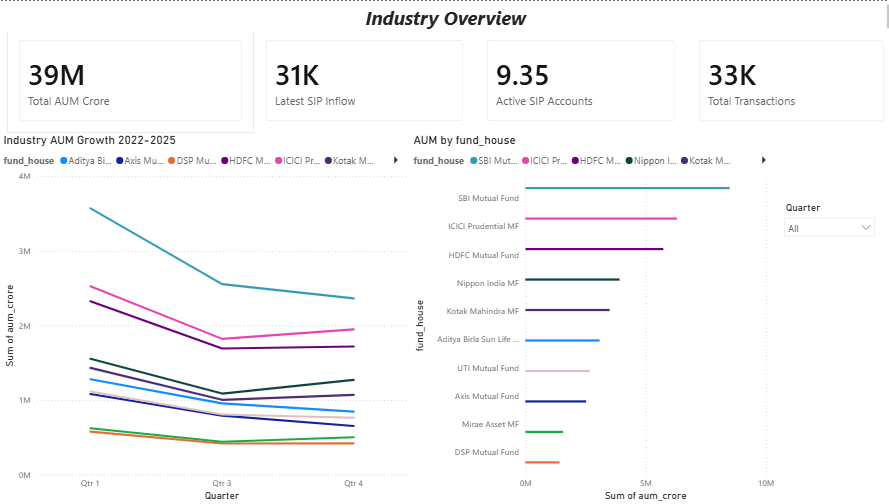

Layout of this report page (visuals, bound fields, positions):
{"tool":"powerbi","page":{"name":"Industry overview","canvas":[1280,720],"ordinal":0},"visuals":[{"type":"cardVisual","fields":{"Data":["clean_aum csv.Total AUM Crore"]},"box":[9.6,38.5,353.7,150],"z":0},{"type":"cardVisual","fields":{"Data":["clean_aum csv.Latest SIP Inflow"]},"box":[363.4,38.5,315.2,150],"z":1000},{"type":"cardVisual","fields":{"Data":["Max(clean_sip_inflows.active_sip_accounts_crore)"]},"box":[678.5,38.5,302.8,150],"z":2000},{"type":"cardVisual","fields":{"Data":["clean_aum csv.Total Transactions"]},"box":[981.3,38.5,298.7,150],"z":3000},{"type":"lineChart","title":"Industry AUM Growth 2022-2025","fields":{"Category":["clean_aum csv.date.Variation.Date Hierarchy.Quarter"],"Y":["Sum(clean_aum csv.aum_crore)"],"Series":["clean_aum csv.fund_house"]},"box":[0,188.8,585.4,531.2],"z":4000},{"type":"clusteredBarChart","title":"AUM by fund_house","fields":{"Category":["clean_aum csv.fund_house"],"Y":["Sum(clean_aum csv.aum_crore)"],"Series":["clean_aum csv.fund_house"]},"box":[585.4,188.8,525.4,531.2],"z":5000},{"type":"slicer","fields":{"Values":["clean_aum csv.date.Variation.Date Hierarchy.Quarter"]},"box":[1110,281,150,439],"z":6000},{"type":"textbox","box":[0,0,1280,45.4],"z":7000}]}

Visuals, with their boxes in screenshot pixels (x1, y1, x2, y2), scaled from the page's 1280x720 canvas onto the 889x504 screenshot:
cardVisual - clean_aum csv.Total AUM Crore: rect(7, 27, 252, 132)
cardVisual - clean_aum csv.Latest SIP Inflow: rect(252, 27, 471, 132)
cardVisual - Max(clean_sip_inflows.active_sip_accounts_crore): rect(471, 27, 682, 132)
cardVisual - clean_aum csv.Total Transactions: rect(682, 27, 888, 132)
"Industry AUM Growth 2022-2025" lineChart: rect(0, 132, 407, 503)
"AUM by fund_house" clusteredBarChart: rect(407, 132, 771, 503)
slicer - clean_aum csv.date.Variation.Date Hierarchy.Quarter: rect(771, 197, 875, 503)
textbox: rect(0, 0, 888, 32)
